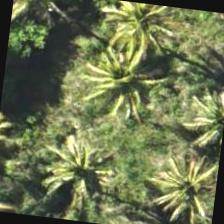Kelapa_Sawit: (64, 27, 164, 127), (13, 124, 113, 224), (128, 135, 221, 223), (94, 0, 191, 60), (172, 65, 223, 161)
